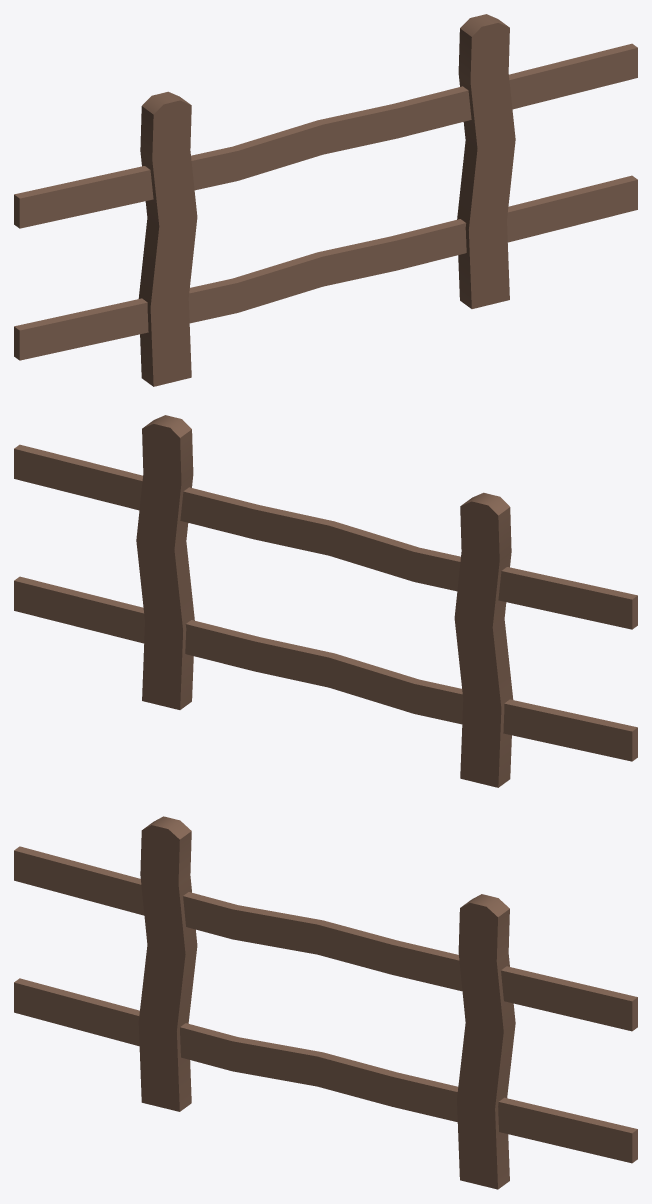
Rendered from Fench.fbx.
3 renders of one model, top to bottom at view 1: azimuth 30°, elevation 25°; view 2: azimuth 150°, elevation 25°; view 3: azimuth 330°, elevation 25°, orthographic.
Parts seen in each view (by area): view 1: Fench; view 2: Fench; view 3: Fench.
Boxes of the visible parts, x1,y1,x2,y2 form: Fench: [14, 14, 637, 386]; Fench: [14, 415, 637, 787]; Fench: [14, 816, 637, 1189].
Bounding box in the file's own units: 5.18 × 2.24 × 0.1726.
